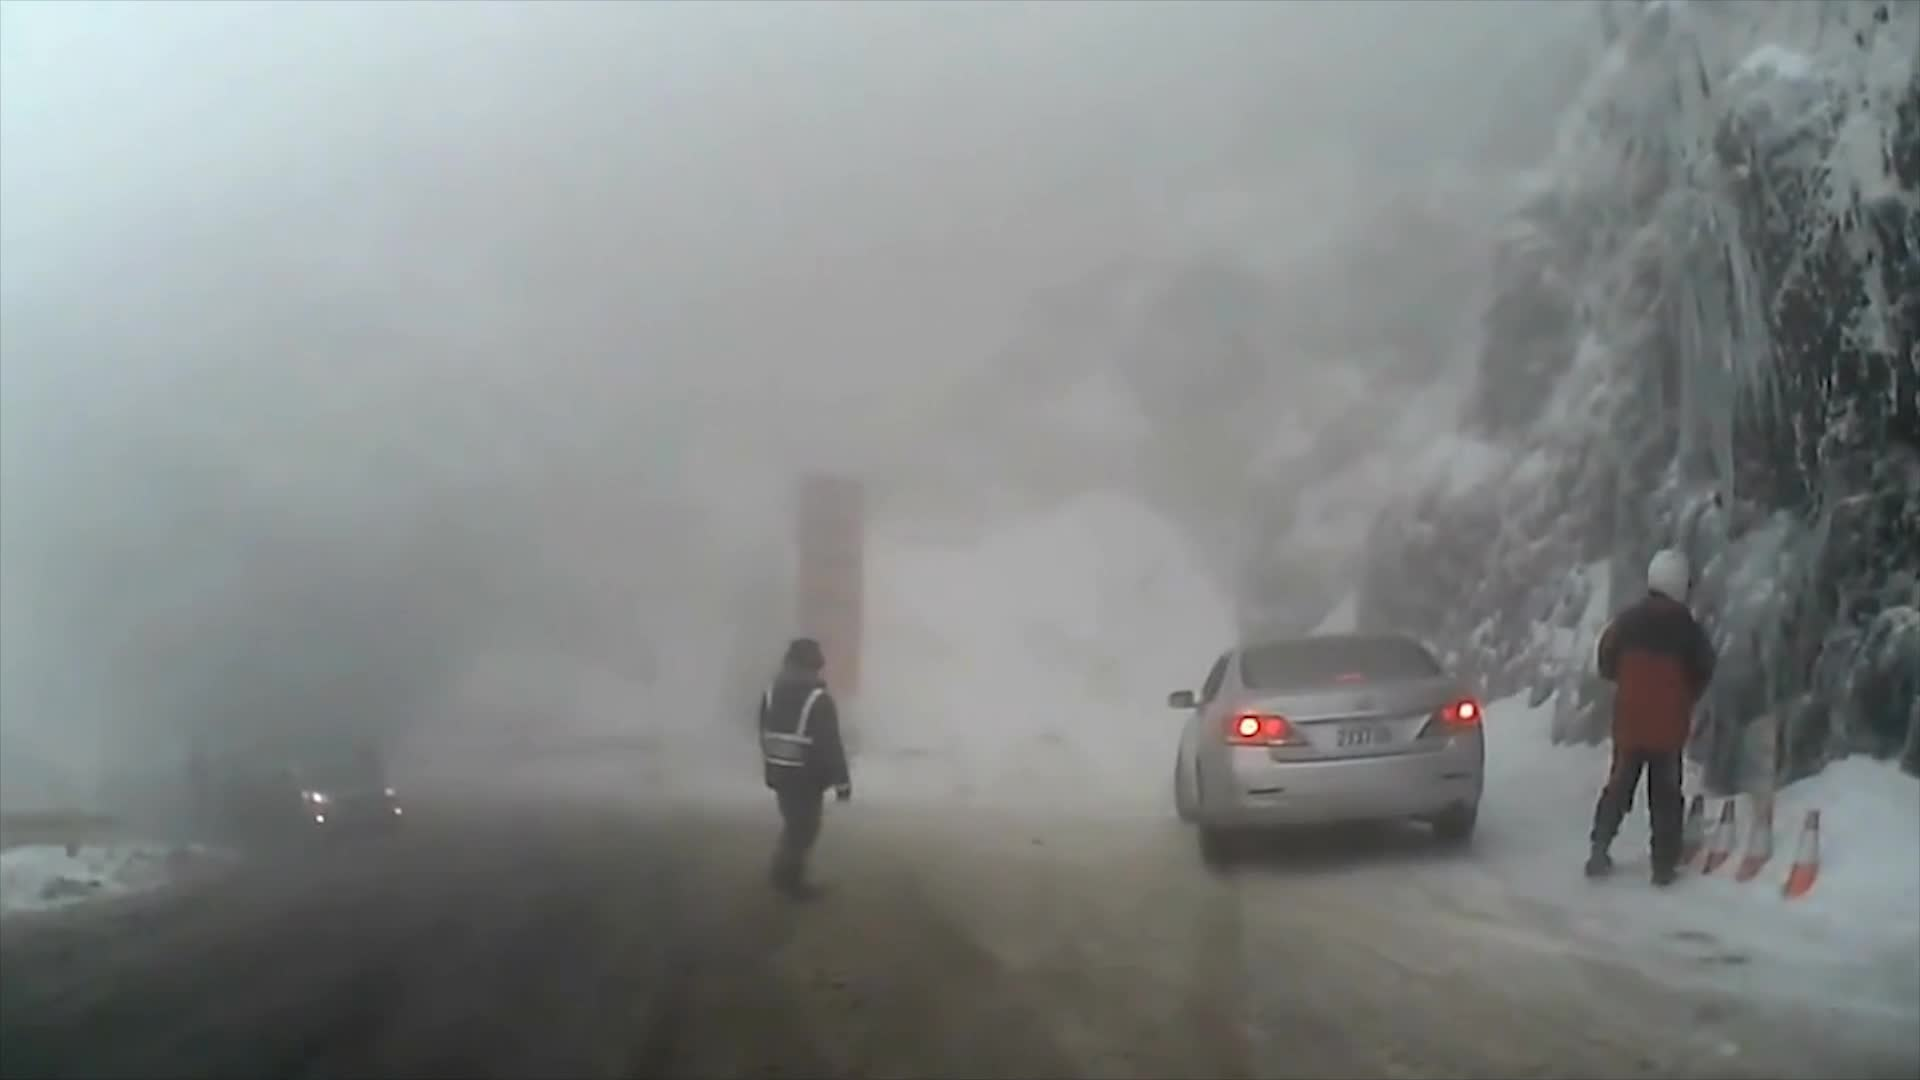pedestrian: (1581, 546, 1724, 888), (760, 645, 862, 907)
vehicle: (1164, 632, 1484, 869)
